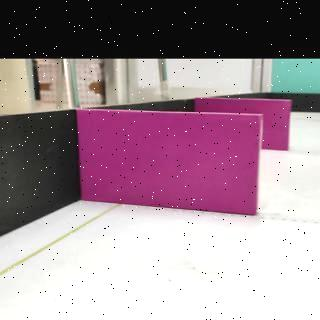xparking: (81, 110, 256, 216), (263, 98, 289, 150)
